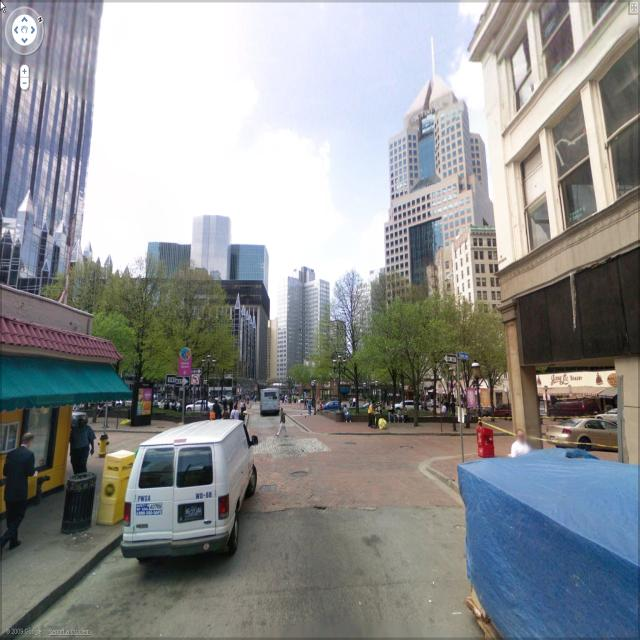b_1: (483, 7, 639, 444), (1, 288, 122, 490), (1, 2, 82, 300), (384, 79, 482, 267), (280, 276, 340, 372), (447, 231, 505, 310)
b_2: (74, 280, 268, 428), (345, 269, 501, 420), (0, 8, 90, 263)
